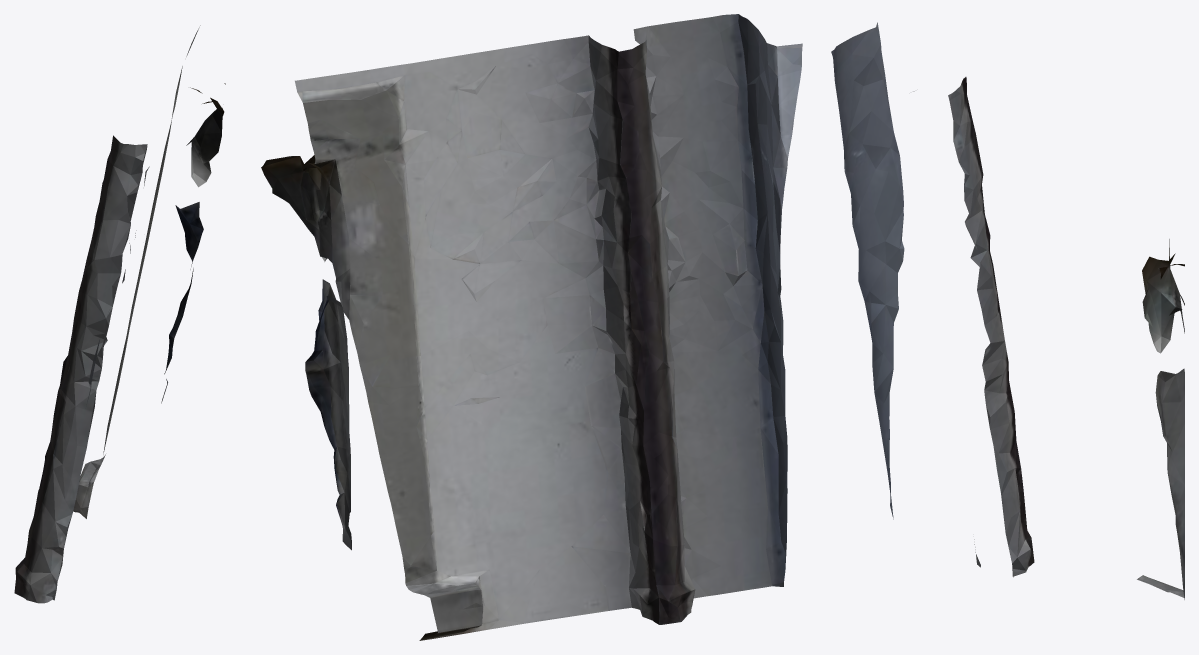
The picture shows the model from 3 angles, left to right: view 1: azimuth 30°, elevation 25°; view 2: azimuth 150°, elevation 25°; view 3: azimuth 270°, elevation 25°; orthographic projection. The views are drawn at different scales.
Bounding box in the file's own units: 1.25 × 1.67 × 1.03.
3 materials, 3 textured.
